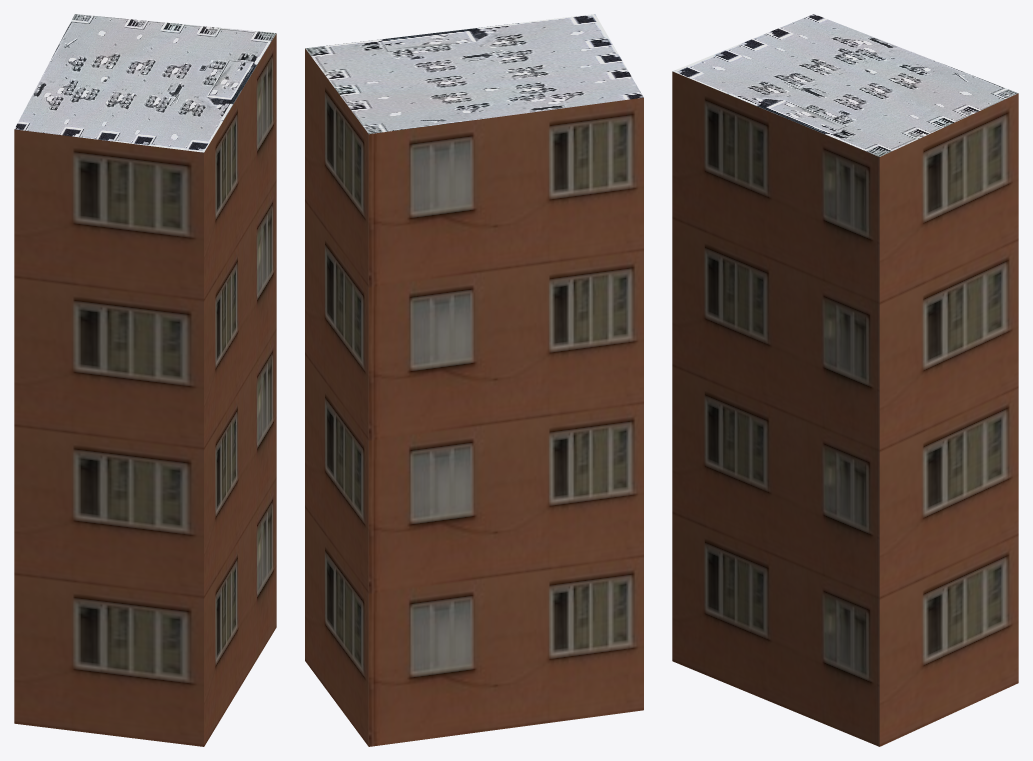
The model's file is ResTex__5244.fbx.
The picture shows the model from 3 angles, left to right: view 1: azimuth 30°, elevation 25°; view 2: azimuth 150°, elevation 25°; view 3: azimuth 270°, elevation 25°; orthographic projection. The views are drawn at different scales.
Visible parts, largest first — view 1: CityEngineMaterial_20_m, CityEngineMaterial_4_m; view 2: CityEngineMaterial_20_m, CityEngineMaterial_4_m; view 3: CityEngineMaterial_20_m, CityEngineMaterial_4_m.
Boxes of the visible parts, x1,y1,x2,y2 form: CityEngineMaterial_20_m: (14, 33, 276, 746); CityEngineMaterial_4_m: (14, 14, 276, 152); CityEngineMaterial_20_m: (305, 48, 643, 746); CityEngineMaterial_4_m: (305, 14, 643, 134); CityEngineMaterial_20_m: (672, 71, 1018, 746); CityEngineMaterial_4_m: (673, 14, 1017, 156).
Size of the model in its own units: 6.24 by 12 by 6.38.
Materials: 2 (2 with a texture image).
